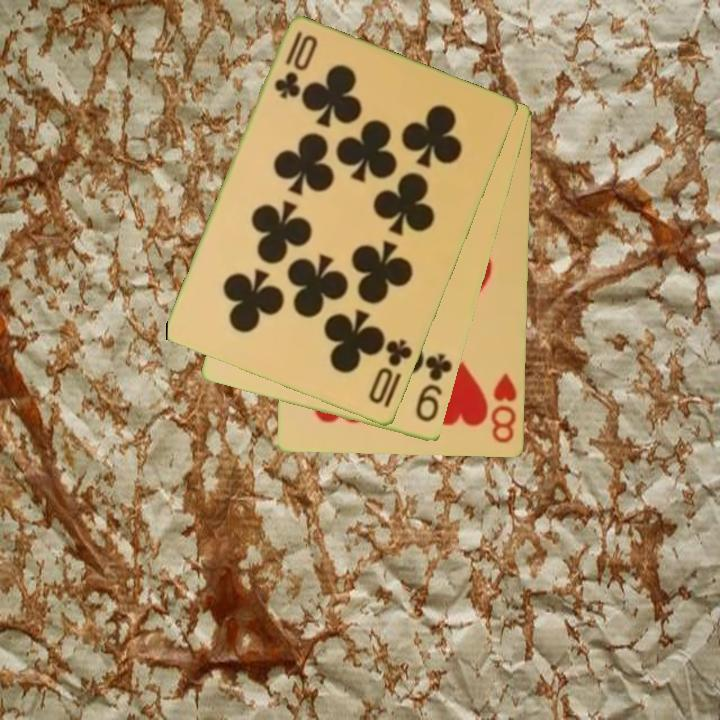10c: (271, 28, 320, 103), (365, 336, 416, 408)
8h: (488, 370, 520, 446)
9c: (412, 350, 456, 426)
